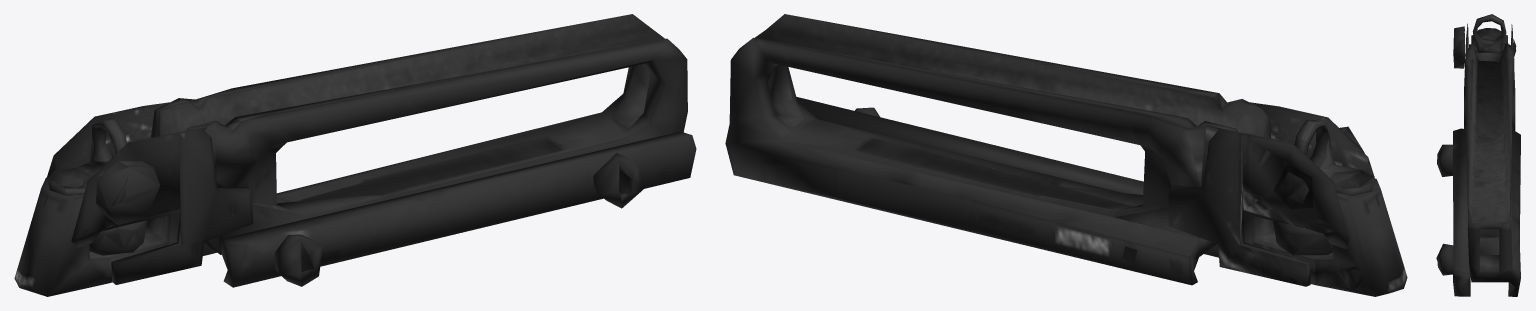
Rendered from CarryHandle.fbx.
The picture shows the model from 3 angles, left to right: view 1: azimuth 30°, elevation 25°; view 2: azimuth 150°, elevation 25°; view 3: azimuth 270°, elevation 25°; orthographic projection. The views are drawn at different scales.
Visible parts, largest first — view 1: CarryHandle; view 2: CarryHandle; view 3: CarryHandle.
Boxes of the visible parts, box(x1,y1,x2,y2) form: CarryHandle: box(14, 14, 696, 296); CarryHandle: box(725, 14, 1407, 296); CarryHandle: box(1436, 14, 1520, 296).
Size of the model in its own units: 0.1206 by 0.0312 by 0.0215.
